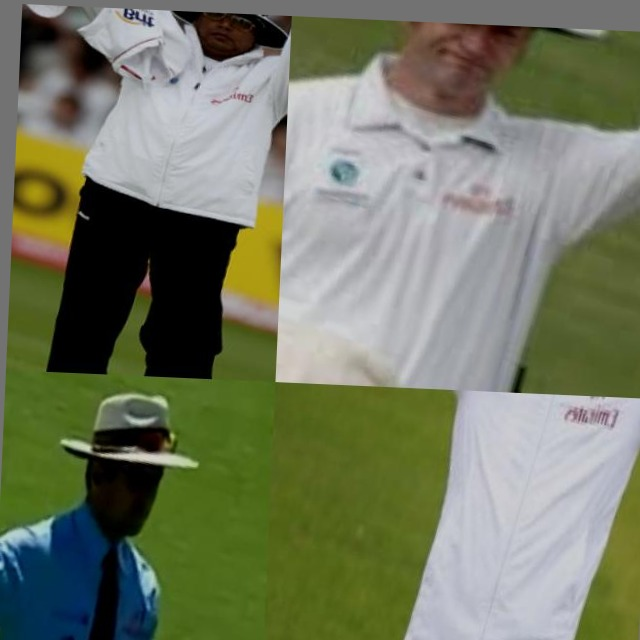No_Ball: (0, 370, 275, 640)
Out: (275, 16, 640, 399)
Six: (6, 4, 292, 382)
Wide: (263, 382, 640, 640)
